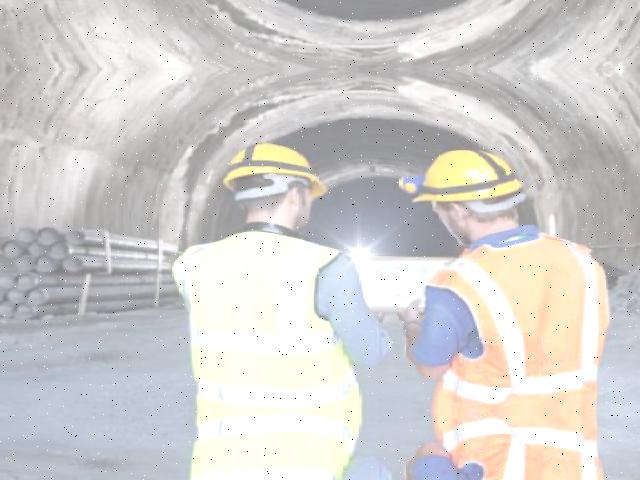Helmet: (404, 145, 532, 216), (216, 138, 335, 199)
